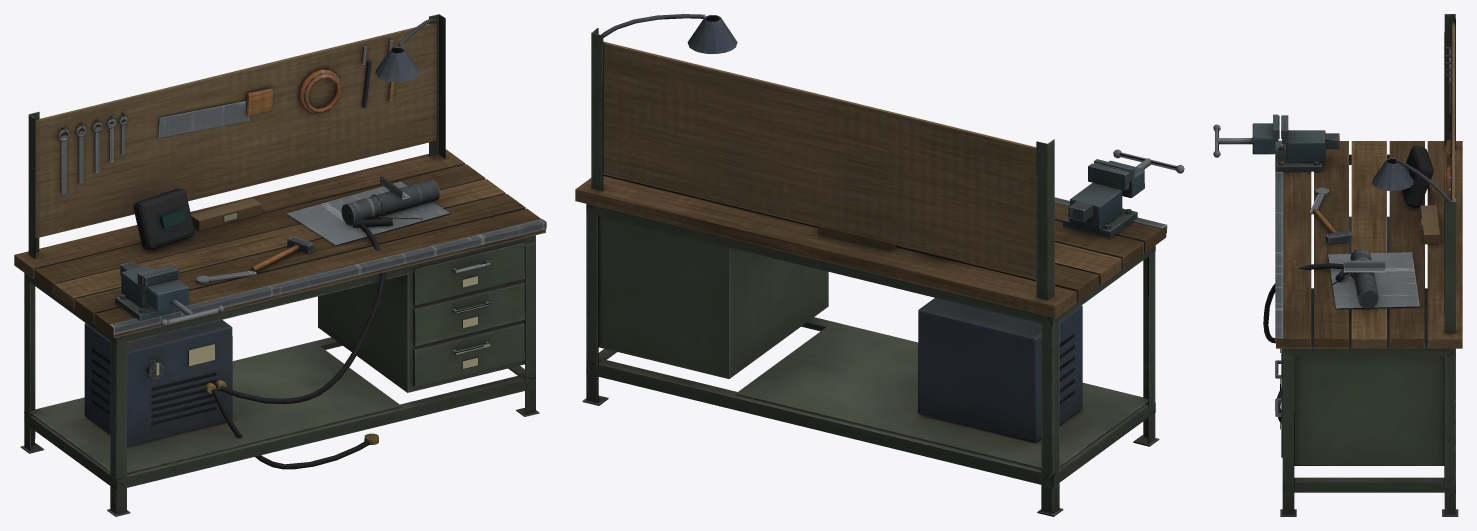
File: prop_workbench.glb
The picture shows the model from 3 angles, left to right: view 1: azimuth 30°, elevation 25°; view 2: azimuth 150°, elevation 25°; view 3: azimuth 270°, elevation 25°; orthographic projection. The views are drawn at different scales.
Parts seen in each view (by area): view 1: prop_workbench; view 2: prop_workbench; view 3: prop_workbench.
Boxes of the visible parts, left/top/right/bottom form: prop_workbench: left=14, top=14, right=546, bottom=516; prop_workbench: left=575, top=14, right=1184, bottom=516; prop_workbench: left=1213, top=14, right=1462, bottom=516.
Bounding box in the file's own units: 2 × 1.52 × 1.06.
1 material, 1 textured.
